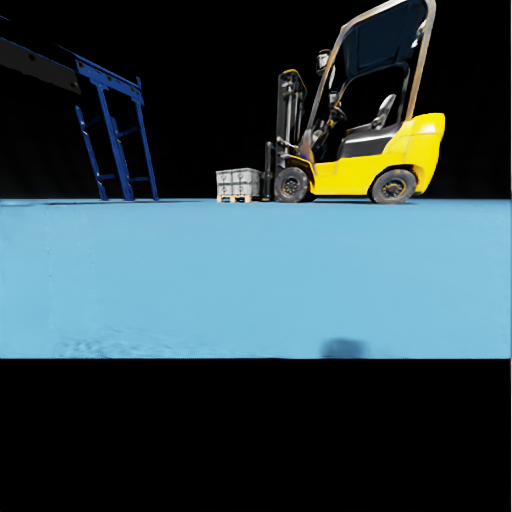transportation_area: (232, 182, 256, 194), (258, 183, 263, 194)
